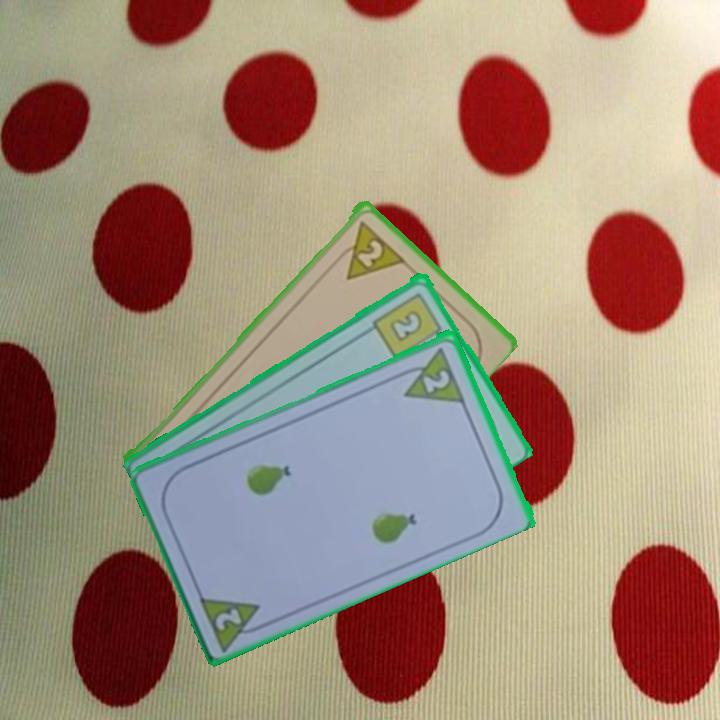2b: (369, 288, 447, 361)
2p: (330, 216, 406, 283), (393, 342, 468, 406), (195, 590, 272, 652)
